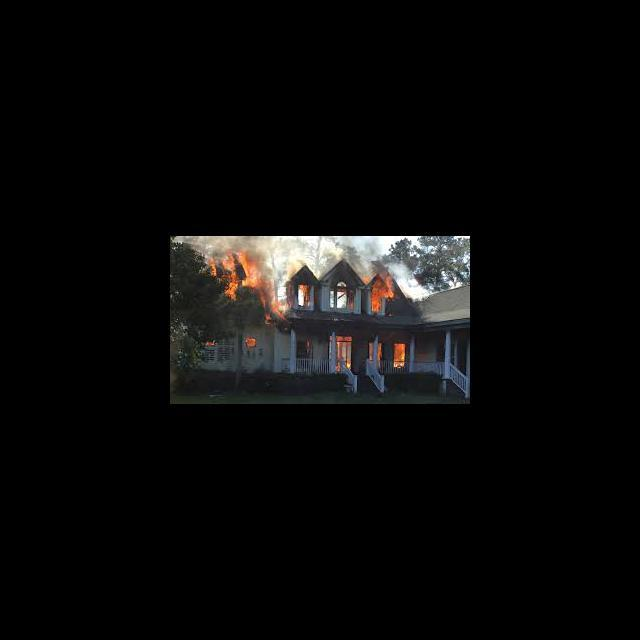Fire: (205, 250, 252, 300), (252, 270, 282, 324), (372, 276, 394, 316), (331, 336, 351, 373), (368, 342, 382, 370), (394, 343, 406, 368), (298, 284, 308, 306), (247, 336, 256, 348), (204, 338, 216, 346), (362, 274, 370, 284), (350, 300, 354, 312)
Smoke: (276, 238, 344, 260), (182, 237, 274, 250), (346, 240, 378, 268), (254, 250, 276, 268), (278, 261, 300, 274), (310, 262, 332, 270)
